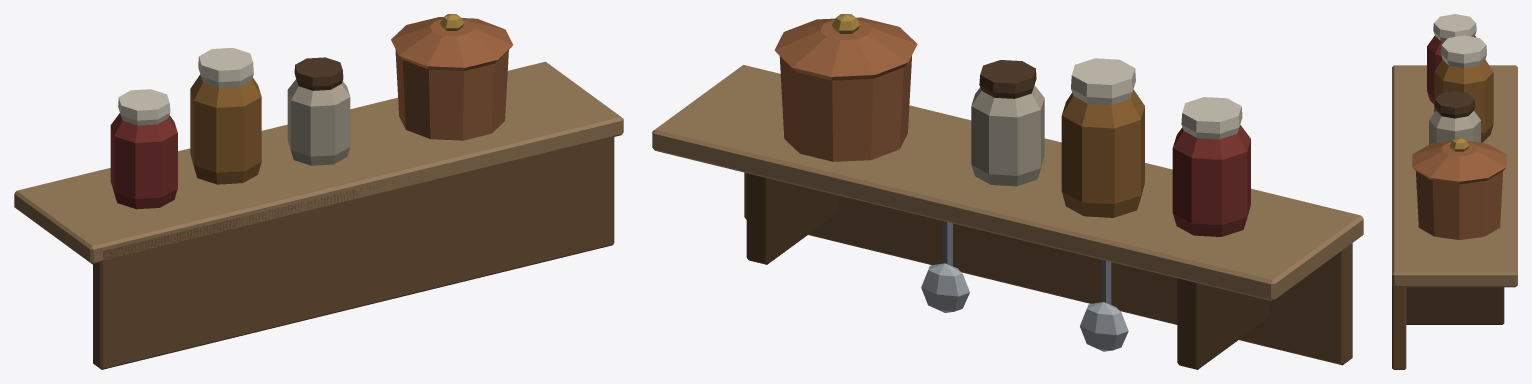
File: prop_wall_shelf.glb
3 views of the same model, side by side, from view 1: azimuth 30°, elevation 25°; view 2: azimuth 150°, elevation 25°; view 3: azimuth 270°, elevation 25° (orthographic). The views are drawn at different scales.
Parts seen in each view (by area): view 1: prop_wall_shelf; view 2: prop_wall_shelf; view 3: prop_wall_shelf.
Boxes of the visible parts, <box> form: prop_wall_shelf: <box>14,14,623,369</box>; prop_wall_shelf: <box>652,14,1363,369</box>; prop_wall_shelf: <box>1392,14,1517,369</box>.
Size of the model in its own units: 1.1 by 0.51 by 0.28.
